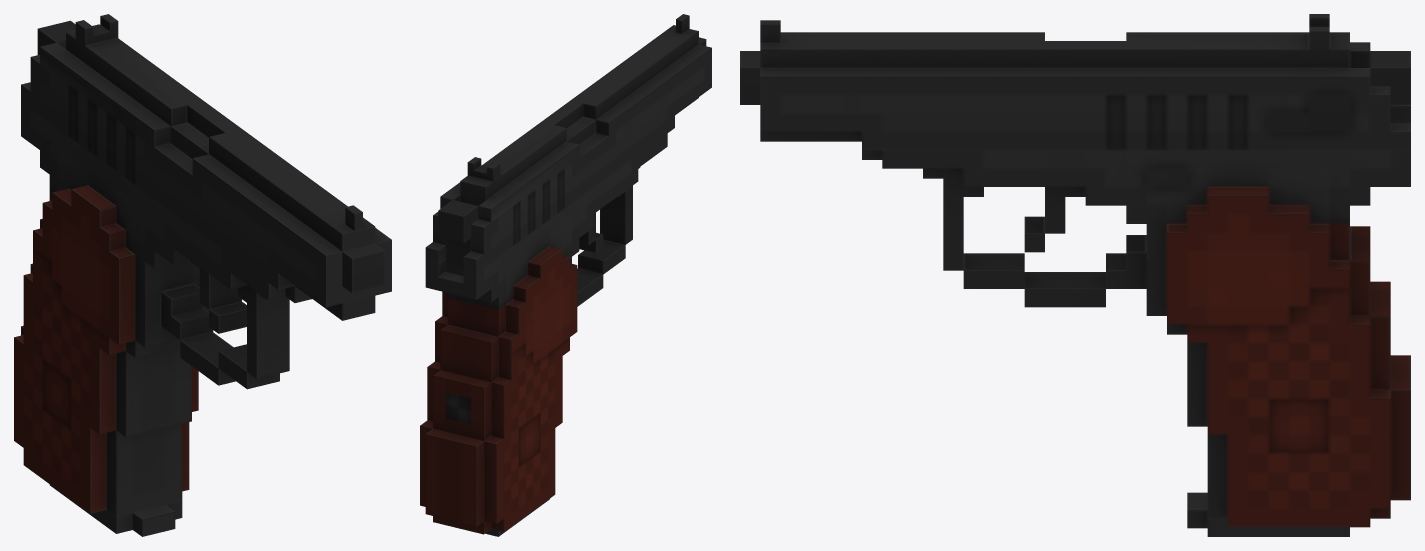
Rendered from RD_PM_RUSTED.glb.
The picture shows the model from 3 angles, left to right: view 1: azimuth 30°, elevation 25°; view 2: azimuth 150°, elevation 25°; view 3: azimuth 270°, elevation 25°; orthographic projection. The views are drawn at different scales.
Parts seen in each view (by area): view 1: PM, PM_FRAME, PM_CLIP, PM_TRIGGER; view 2: PM, PM_FRAME, PM_TRIGGER; view 3: PM, PM_FRAME, PM_CLIP, PM_TRIGGER.
Boxes of the visible parts, x1=… form: PM: x1=14, y1=102, x2=384, y2=516; PM_FRAME: x1=21, y1=14, x2=391, y2=320; PM_CLIP: x1=49, y1=484, x2=182, y2=536; PM_TRIGGER: x1=37, y1=20, x2=75, y2=54; PM: x1=420, y1=37, x2=706, y2=534; PM_FRAME: x1=425, y1=14, x2=711, y2=273; PM_TRIGGER: x1=438, y1=200, x2=478, y2=276; PM: x1=740, y1=51, x2=1410, y2=527; PM_FRAME: x1=760, y1=14, x2=1410, y2=150; PM_CLIP: x1=1187, y1=492, x2=1349, y2=536; PM_TRIGGER: x1=1370, y1=51, x2=1410, y2=104.
Bounding box in the file's own units: 0.0591 × 0.2657 × 0.3248.
Materials: 1 (1 with a texture image).
